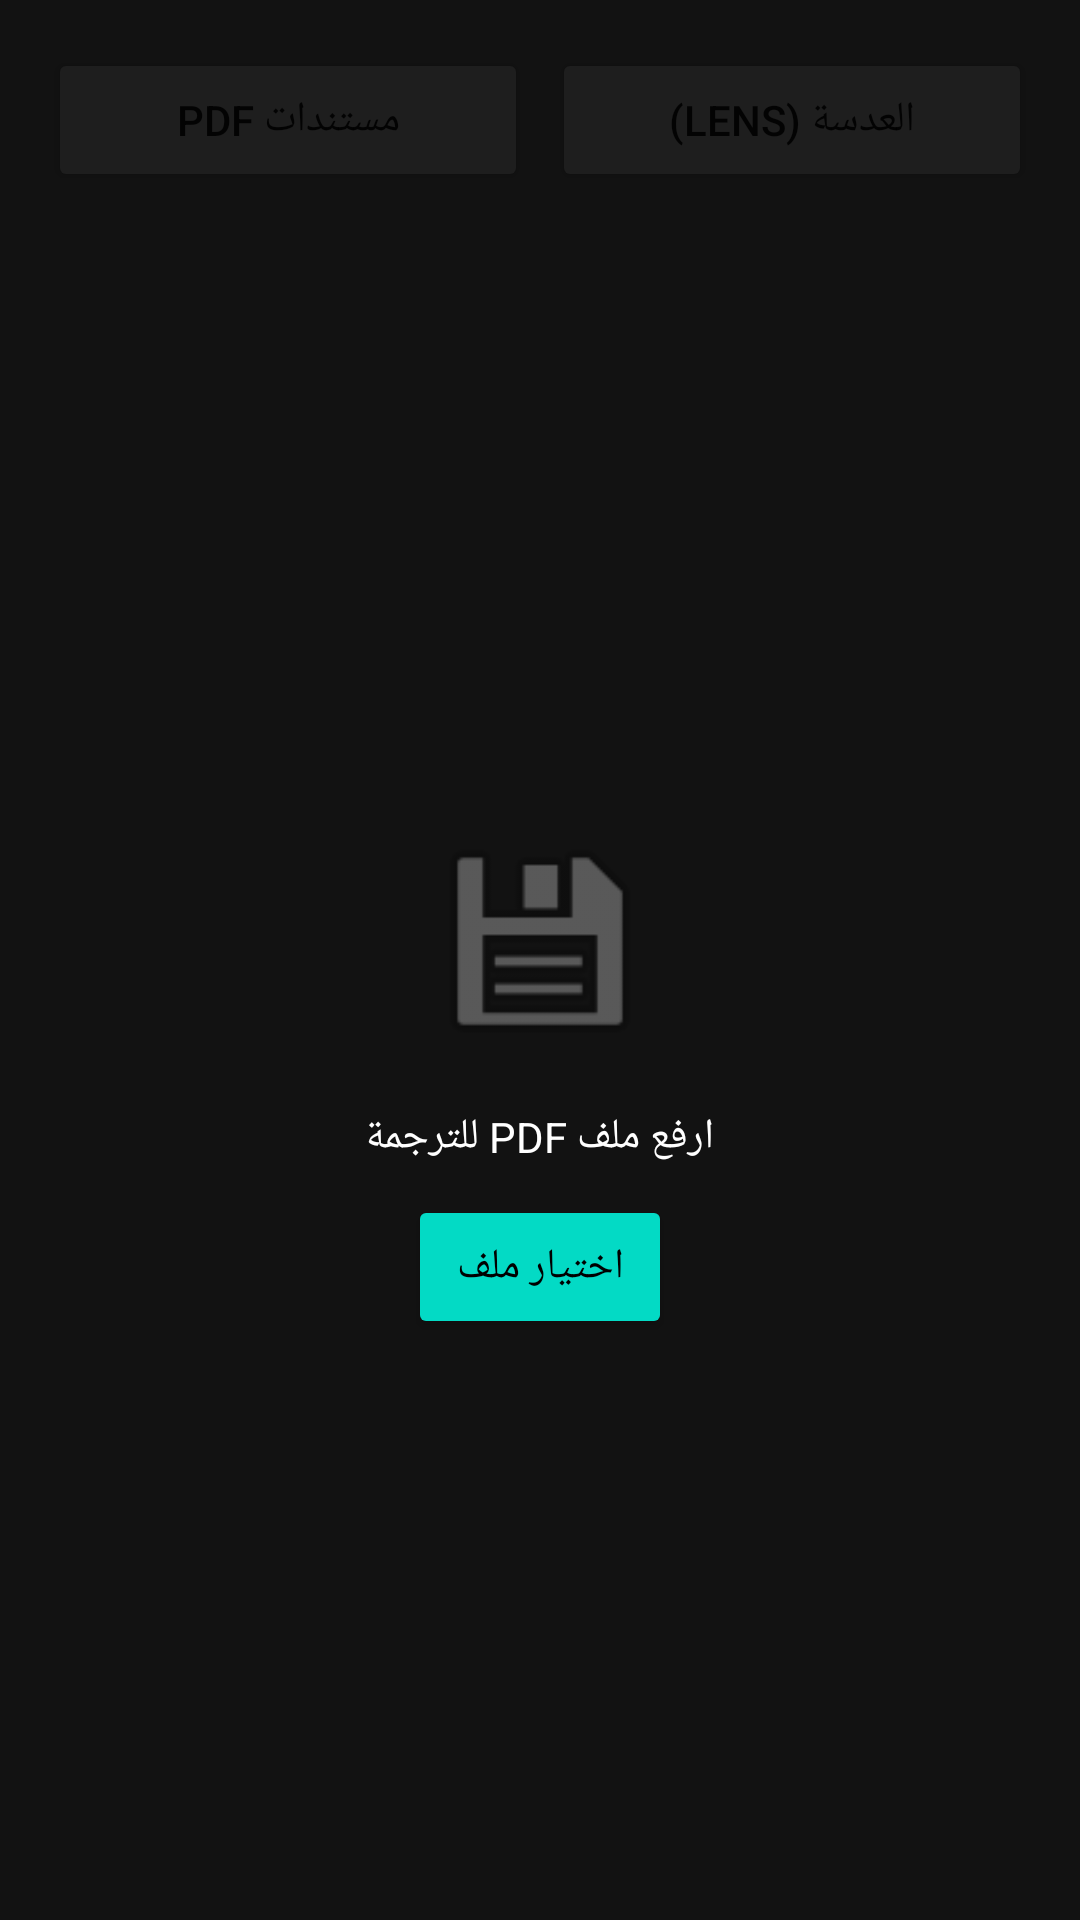

Named icons in this screenshot (1080 x 1920) and their centers, (x,y):
save: (540,941)
